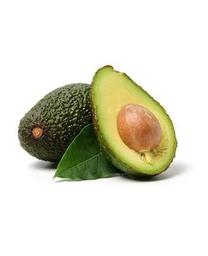avocado: (89, 65, 178, 179), (17, 82, 126, 165)
